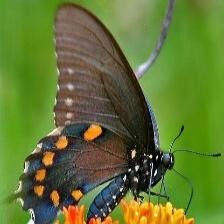butterfly: (20, 4, 174, 224)
